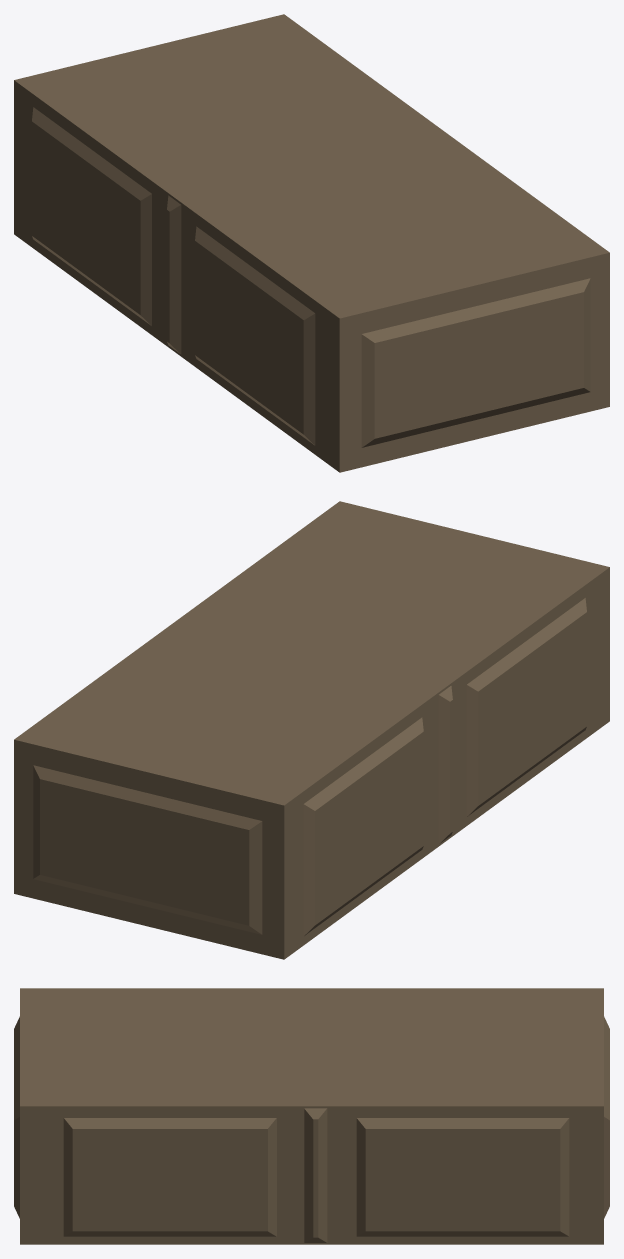
File: Itr_Bed_Single_Body_03.FBX
The picture shows the model from 3 angles, top to bottom: view 1: azimuth 30°, elevation 25°; view 2: azimuth 150°, elevation 25°; view 3: azimuth 270°, elevation 25°; orthographic projection. The views are drawn at different scales.
Parts seen in each view (by area): view 1: Itr_Bed_Single_Body_03; view 2: Itr_Bed_Single_Body_03; view 3: Itr_Bed_Single_Body_03.
Boxes of the visible parts, box(x1,y1,x2,y2) form: Itr_Bed_Single_Body_03: box(14, 14, 609, 472); Itr_Bed_Single_Body_03: box(14, 501, 609, 959); Itr_Bed_Single_Body_03: box(14, 988, 609, 1244).
Size of the model in its own units: 45.4 by 23.62 by 92.26.
